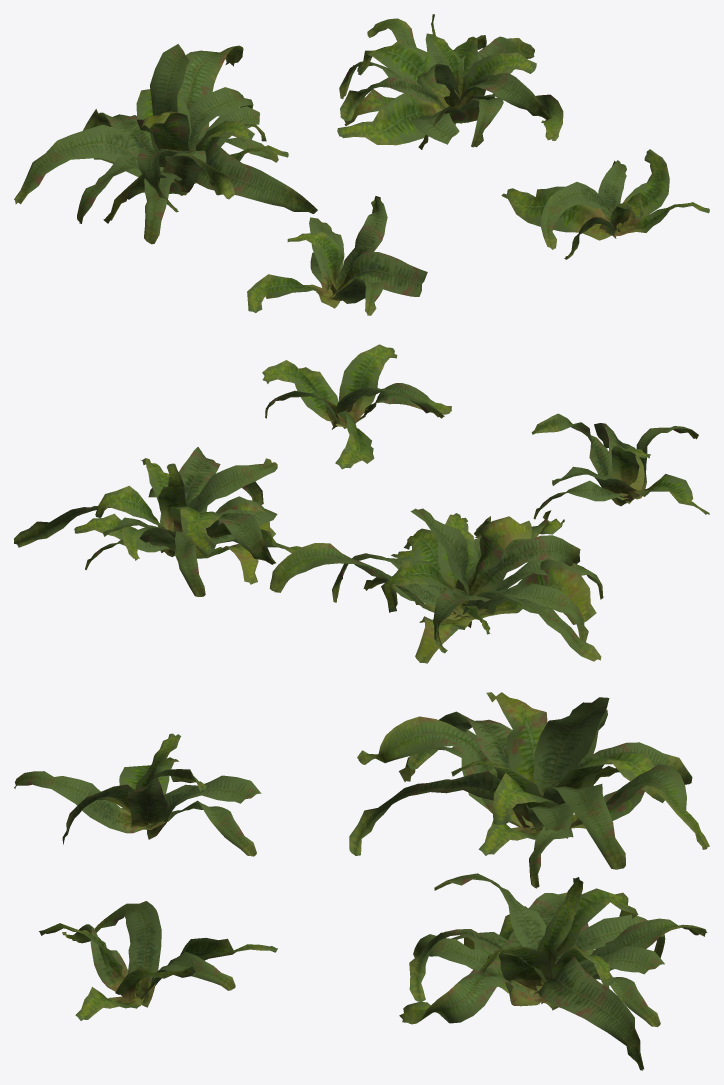
File: fern_02.glb
3 views of the same model, one above another, from view 1: azimuth 30°, elevation 25°; view 2: azimuth 150°, elevation 25°; view 3: azimuth 270°, elevation 25° (orthographic). The views are drawn at different scales.
Visible parts, largest first — view 1: fern_02_b; view 2: fern_02_b; view 3: fern_02_b.
Boxes of the visible parts, box(x1,y1,x2,y2) form: fern_02_b: box(14, 14, 709, 315); fern_02_b: box(14, 344, 709, 663); fern_02_b: box(14, 692, 709, 1070).
Size of the model in its own units: 1.97 by 0.4277 by 1.72.
Materials: 1 (1 with a texture image).
